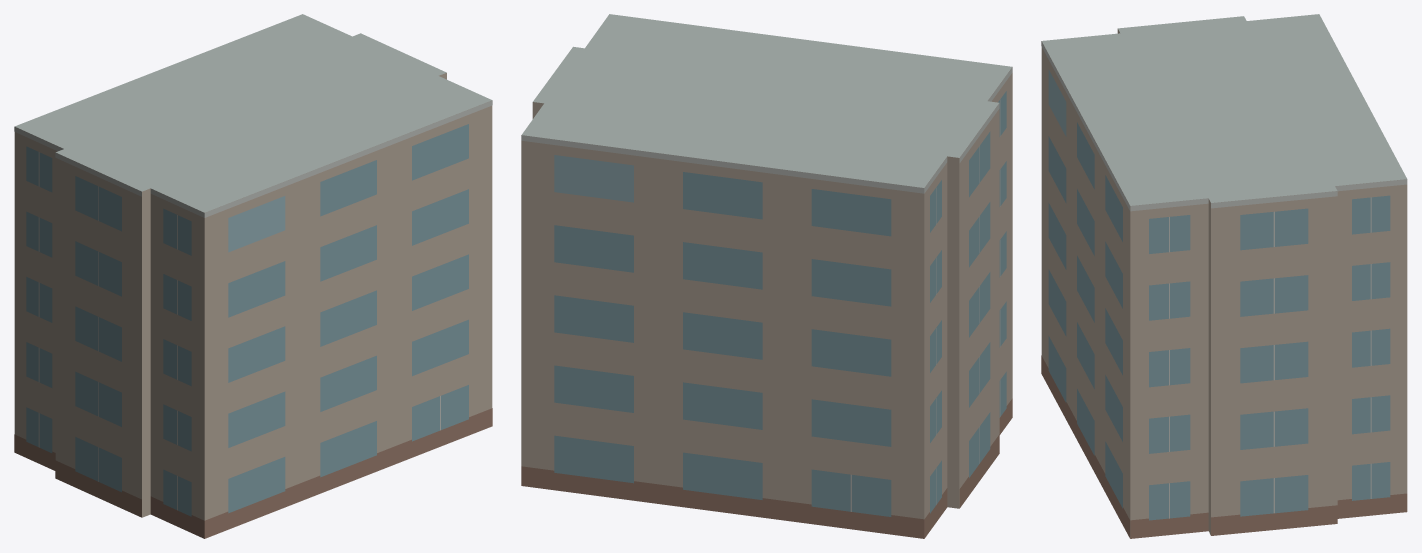
Rendered from survey-upis-32915090.glb.
3 renders of one model, left to right at view 1: azimuth 30°, elevation 25°; view 2: azimuth 150°, elevation 25°; view 3: azimuth 270°, elevation 25°, orthographic. The views are drawn at different scales.
Visible parts, largest first — view 1: survey-upis-32915090.tmp; view 2: survey-upis-32915090.tmp; view 3: survey-upis-32915090.tmp.
Boxes of the visible parts, left/top/right/bottom form: survey-upis-32915090.tmp: left=14, top=14, right=492, bottom=538; survey-upis-32915090.tmp: left=521, top=14, right=1012, bottom=538; survey-upis-32915090.tmp: left=1041, top=14, right=1407, bottom=538.
Bounding box in the file's own units: 18.68 × 15.1 × 15.05.
